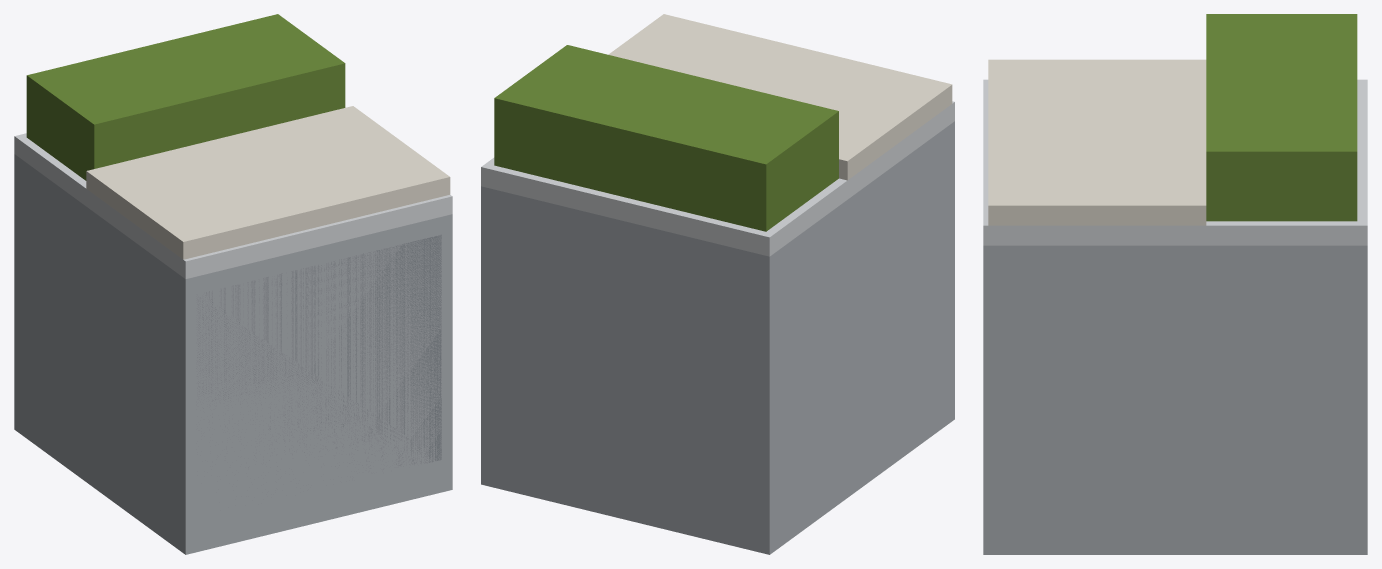
Rendered from prep_table_sandwich_27.glb.
3 views of the same model, side by side, from view 1: azimuth 30°, elevation 25°; view 2: azimuth 150°, elevation 25°; view 3: azimuth 270°, elevation 25° (orthographic). The views are drawn at different scales.
Bounding box in the file's own units: 0.6858 × 0.8738 × 0.762.
